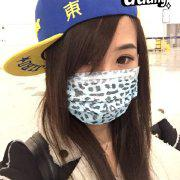OK: (63, 43, 145, 126)
